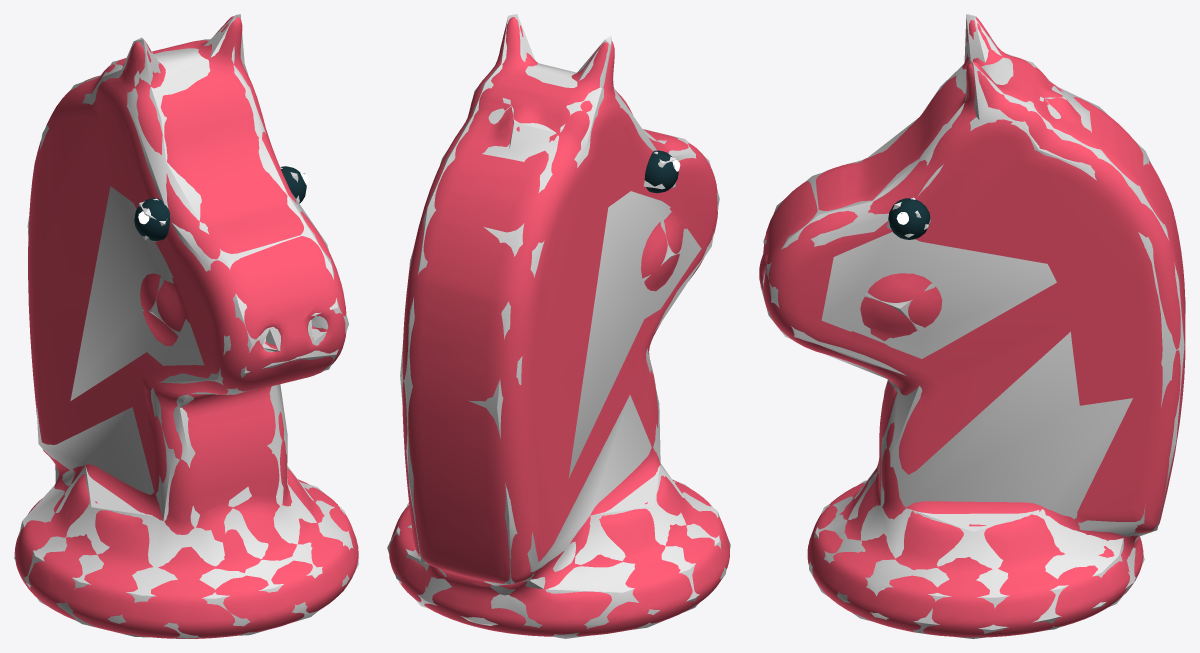
File: knight.glb
3 views of the same model, side by side, from view 1: azimuth 30°, elevation 25°; view 2: azimuth 150°, elevation 25°; view 3: azimuth 270°, elevation 25° (orthographic). The views are drawn at different scales.
Visible parts, largest first — view 1: knight, shadow; view 2: knight, shadow; view 3: knight, shadow.
Part boxes in pixels (x1,y1,x2,y2): knight: (14, 16, 358, 638); shadow: (14, 14, 358, 638); knight: (389, 17, 729, 636); shadow: (387, 14, 730, 638); knight: (759, 17, 1185, 637); shadow: (760, 14, 1185, 638).
Bounding box in the file's own units: 0.714 × 1.25 × 0.9052.
